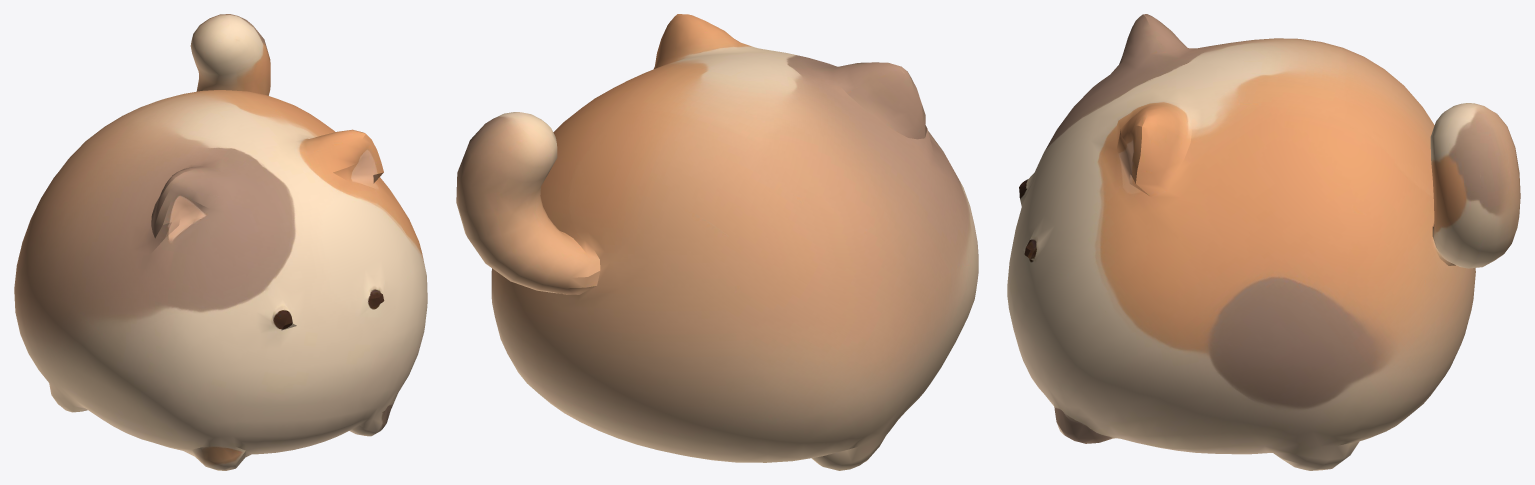
Rendered from Animal_Cat_02.glb.
3 renders of one model, left to right at view 1: azimuth 30°, elevation 25°; view 2: azimuth 150°, elevation 25°; view 3: azimuth 270°, elevation 25°, orthographic. The views are drawn at different scales.
Parts seen in each view (by area): view 1: Animal_Cat_02.001; view 2: Animal_Cat_02.001; view 3: Animal_Cat_02.001.
Part boxes in pixels (bbox=[...]): Animal_Cat_02.001: bbox=[14, 14, 427, 470]; Animal_Cat_02.001: bbox=[456, 14, 978, 470]; Animal_Cat_02.001: bbox=[1007, 14, 1520, 470].
Size of the model in its own units: 0.9185 by 0.7549 by 1.
Materials: 1 (1 with a texture image).
